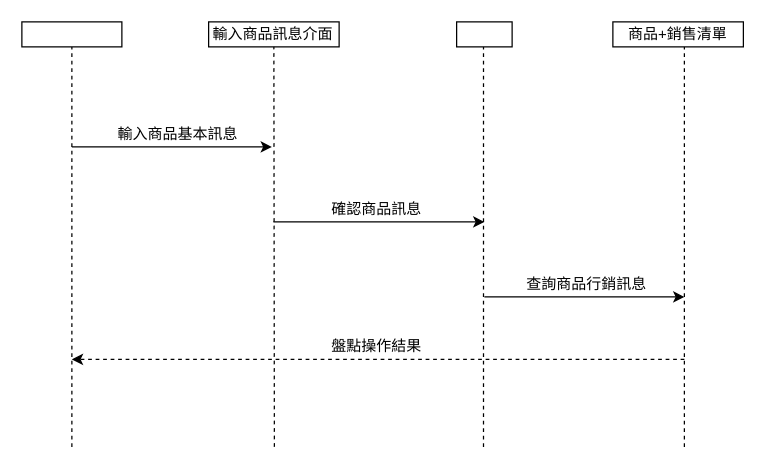
The diagram is 766 pixels wide and 470 high, and some of its shapes have lost their labels. Here are the shapes that lost their labels. From the top down, the box of each, then its label:
(21, 21, 122, 47): 系統管理員
(455, 21, 512, 47): 盤點
